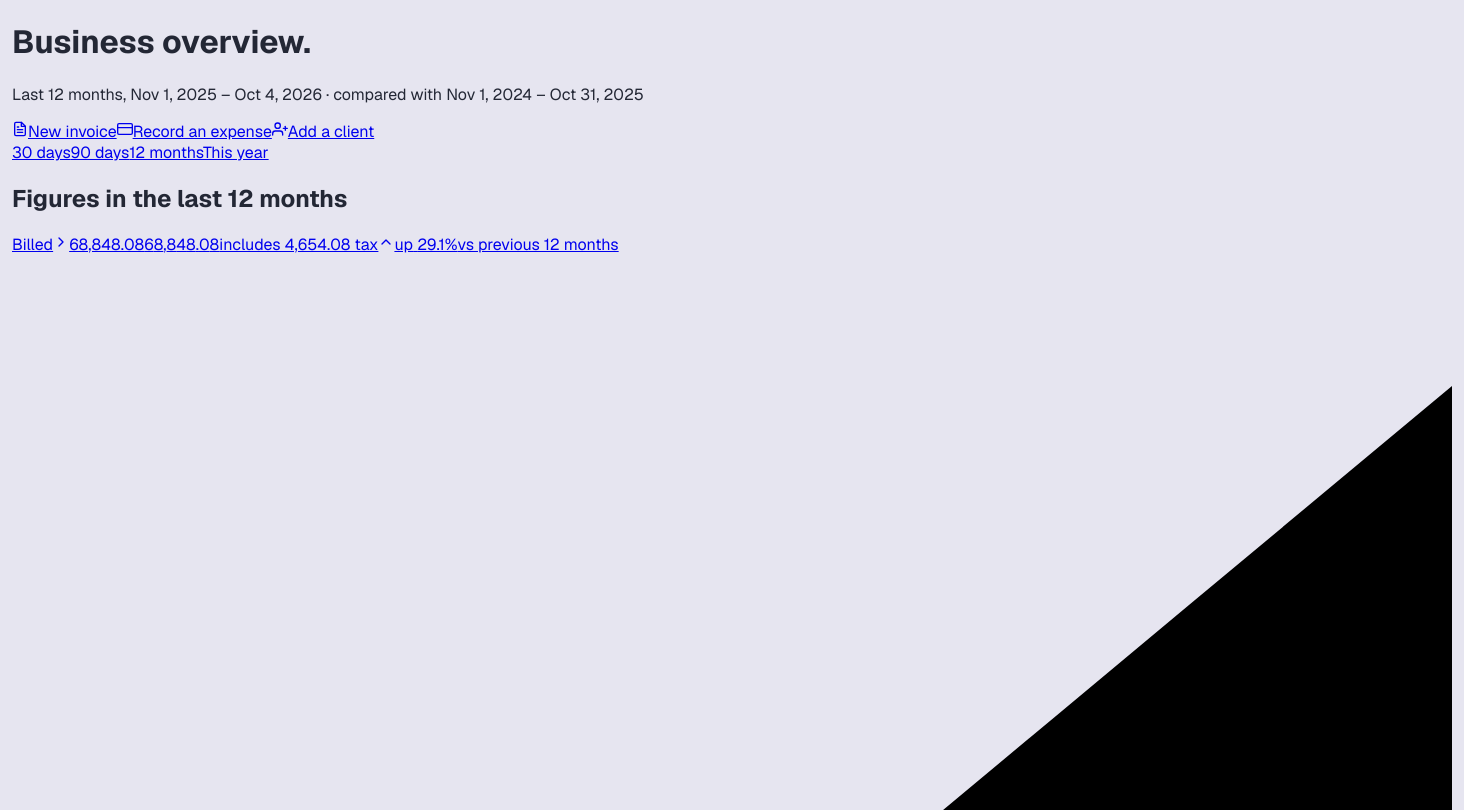
Test: keeps the chosen period in the address and asks for it
The width and height of the screenshot is (1464, 810).
expect the heading "Figures in the last 12 months" is shown: met, box [12,183,347,214]
Click the link "90 days".
click(100, 152)  # box [71,142,129,163]
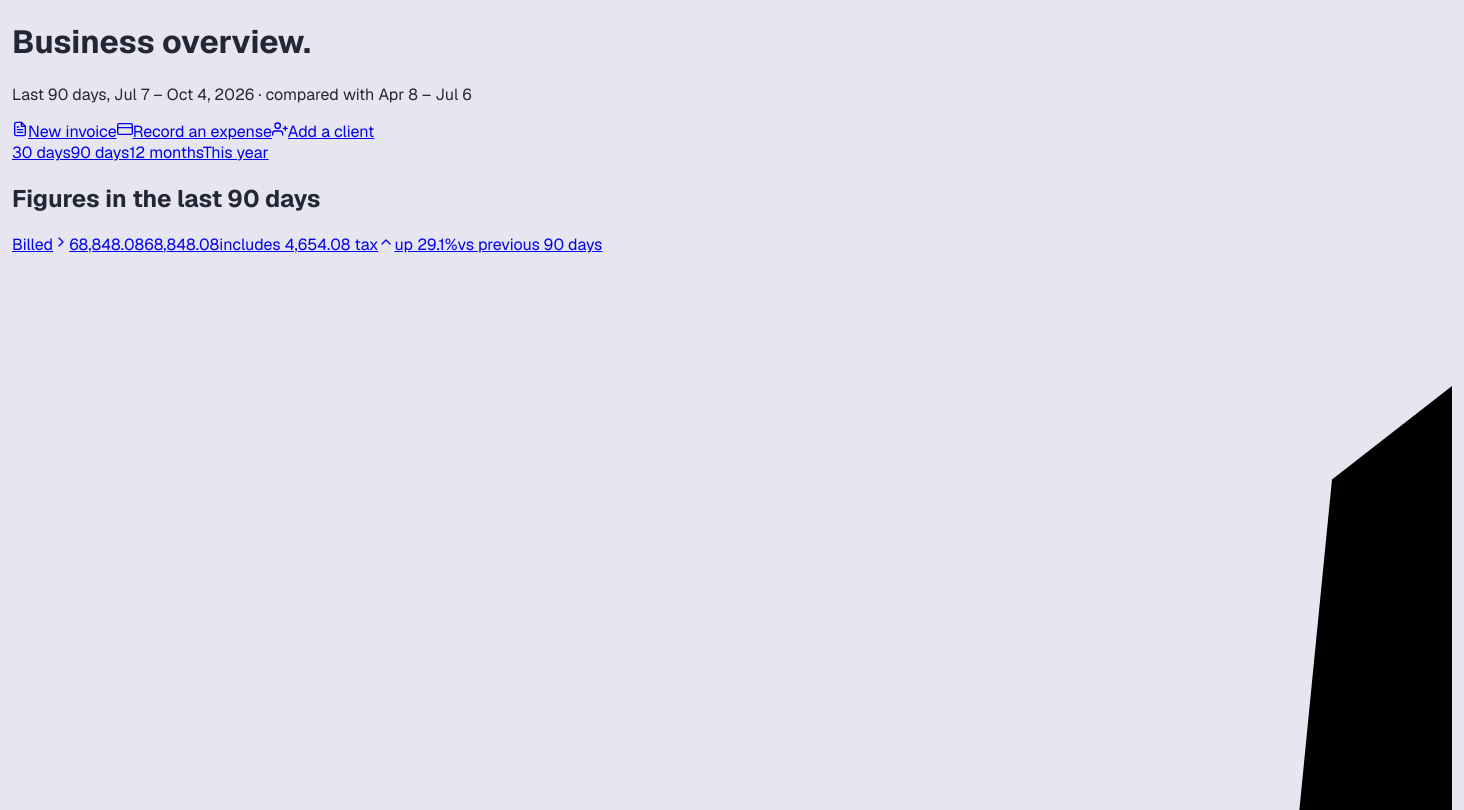
expect the text "compared with Apr 8 – Jul 6" is shown: met, box [12,84,472,105]
